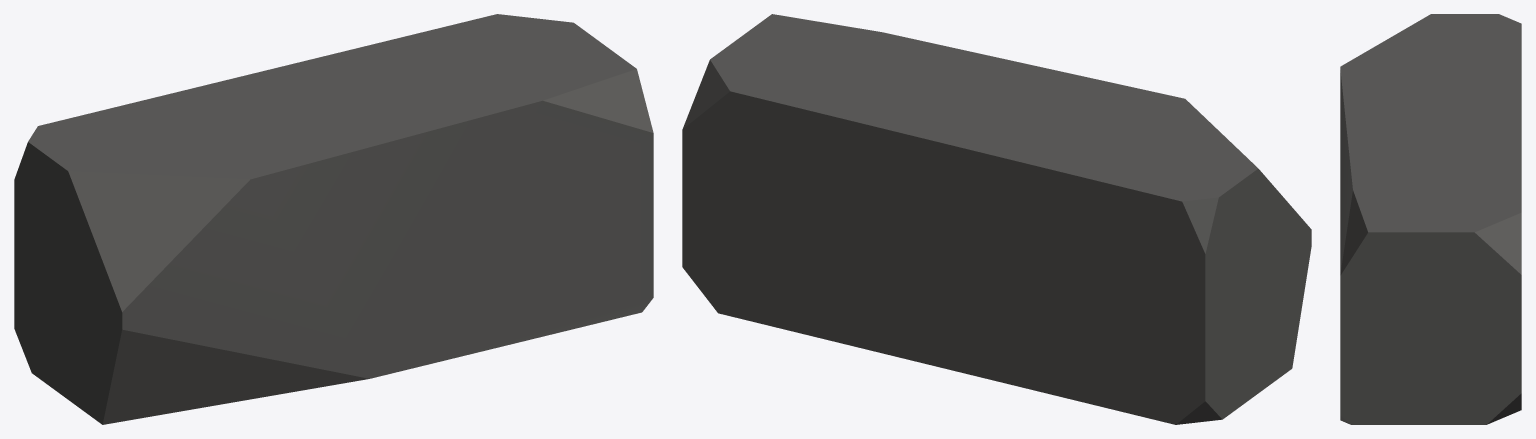
Rendered from Cube_Rock_1.fbx.
3 renders of one model, left to right at view 1: azimuth 30°, elevation 25°; view 2: azimuth 150°, elevation 25°; view 3: azimuth 270°, elevation 25°, orthographic. The views are drawn at different scales.
Visible parts, largest first — view 1: Cube_Rock_1; view 2: Cube_Rock_1; view 3: Cube_Rock_1.
Part boxes in pixels (<box>): Cube_Rock_1: <box>14,14,653,424</box>; Cube_Rock_1: <box>682,14,1311,424</box>; Cube_Rock_1: <box>1340,14,1521,424</box>.
Bounding box in the file's own units: 201 × 82.41 × 70.47.
Materials: 1 (1 with a texture image).
